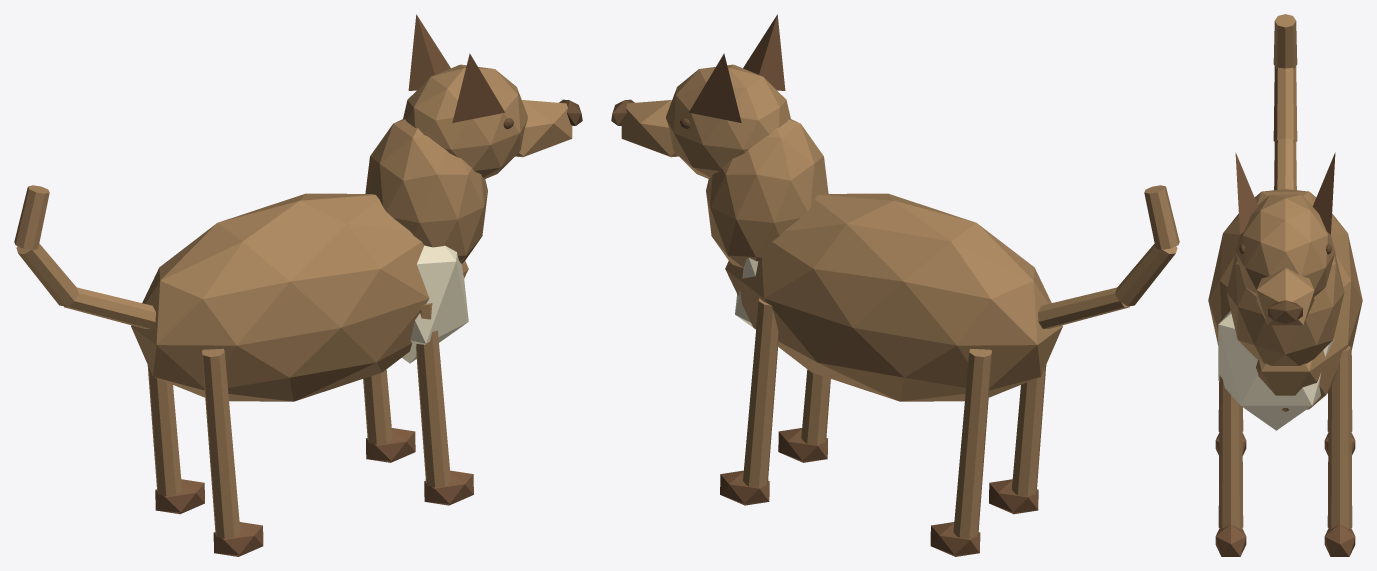
The picture shows the model from 3 angles, left to right: view 1: azimuth 30°, elevation 25°; view 2: azimuth 150°, elevation 25°; view 3: azimuth 270°, elevation 25°; orthographic projection. The views are drawn at different scales.
Parts seen in each view (by area): view 1: UP-007 Upland shepherd dog batched; view 2: UP-007 Upland shepherd dog batched; view 3: UP-007 Upland shepherd dog batched.
Part boxes in pixels (x1=…): UP-007 Upland shepherd dog batched: x1=14, y1=14, x2=582, y2=556; UP-007 Upland shepherd dog batched: x1=611, y1=14, x2=1179, y2=556; UP-007 Upland shepherd dog batched: x1=1208, y1=14, x2=1362, y2=556.
Bounding box in the file's own units: 1.34 × 1.01 × 0.34.
